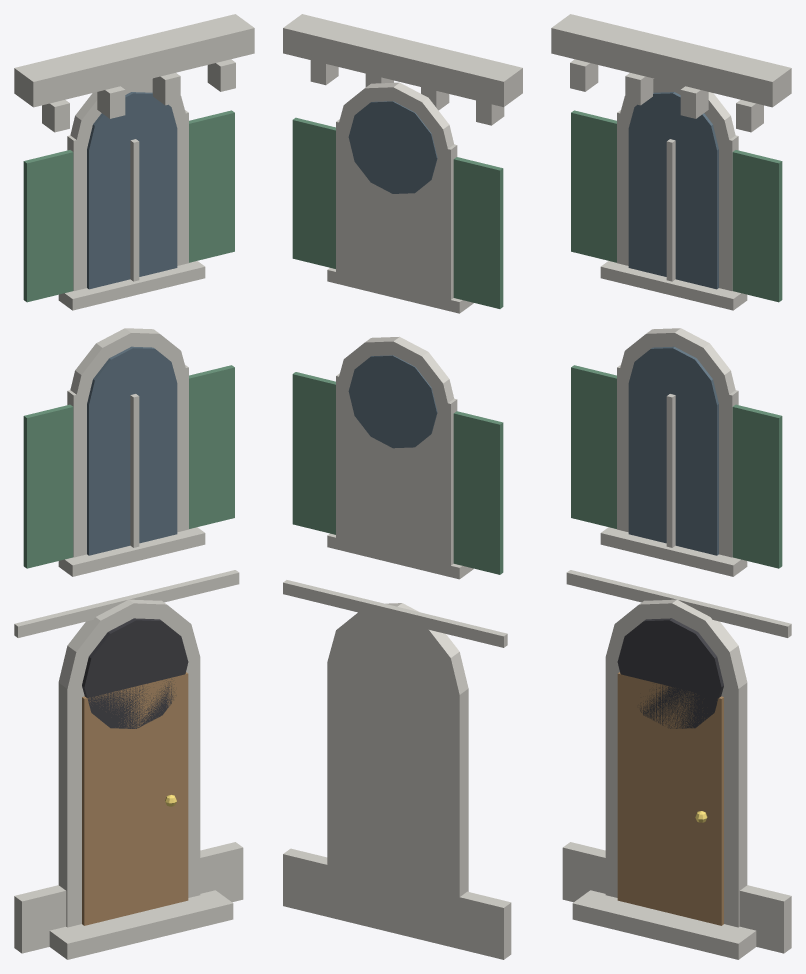
The model's file is VN_Fachada_A.fbx.
The picture shows the model from 3 angles, left to right: view 1: azimuth 30°, elevation 25°; view 2: azimuth 150°, elevation 25°; view 3: azimuth 330°, elevation 25°; orthographic projection.
Parts seen in each view (by area): view 1: VN_Fachada_A; view 2: VN_Fachada_A; view 3: VN_Fachada_A.
Boxes of the visible parts, bbox=[...] form: VN_Fachada_A: bbox=[14, 14, 254, 959]; VN_Fachada_A: bbox=[283, 14, 522, 959]; VN_Fachada_A: bbox=[551, 14, 791, 959].
Bounding box in the file's own units: 2 × 7.6 × 0.41.
